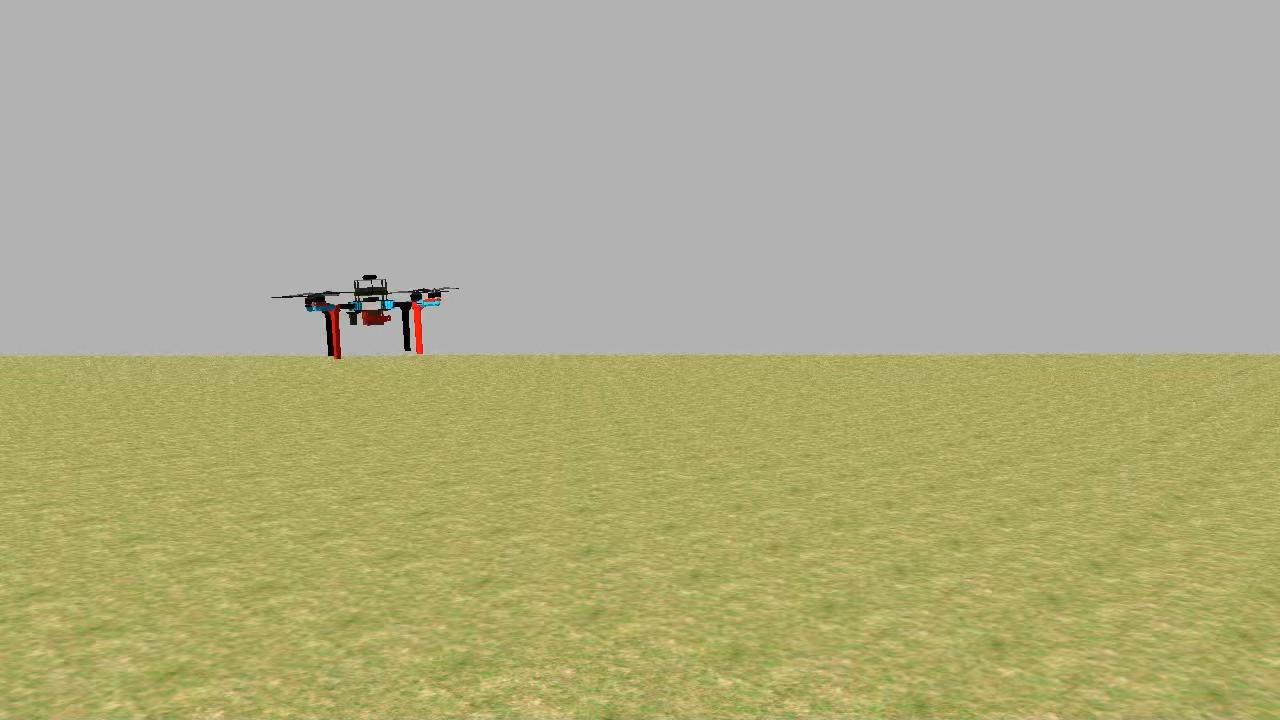UAV: (294, 268, 450, 364)
